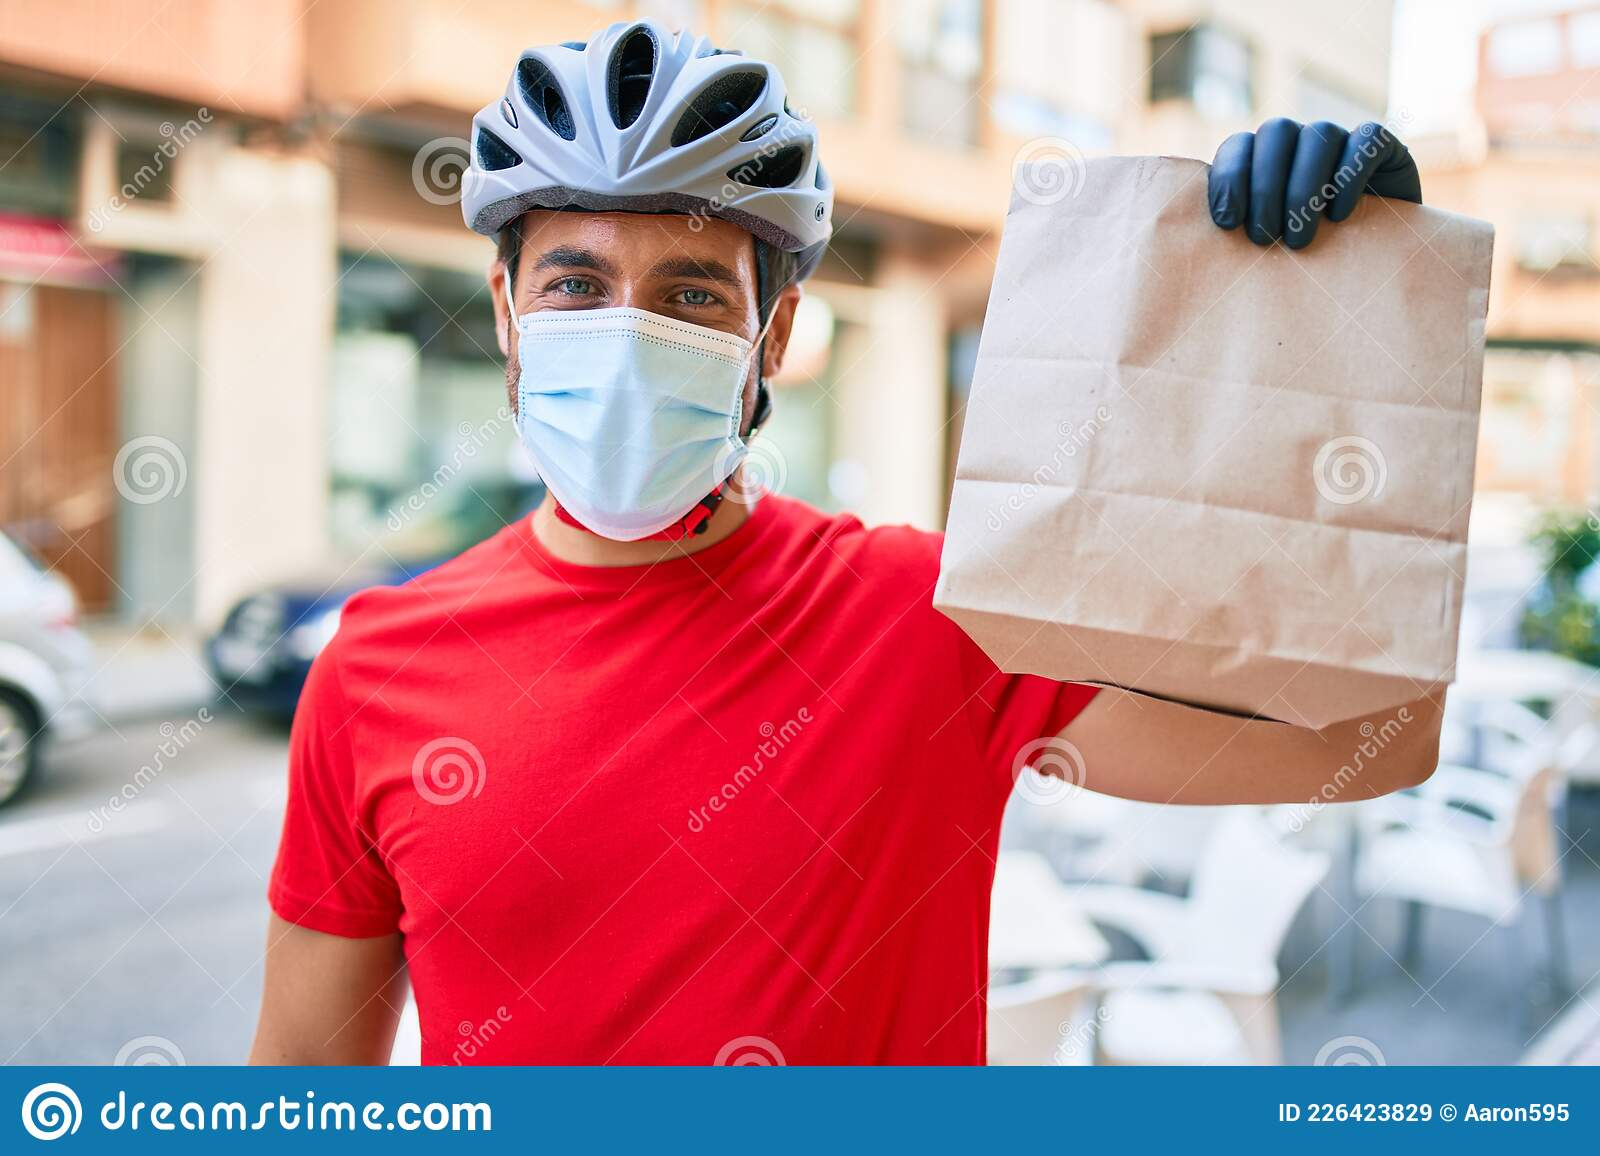helmet: (458, 17, 835, 544)
